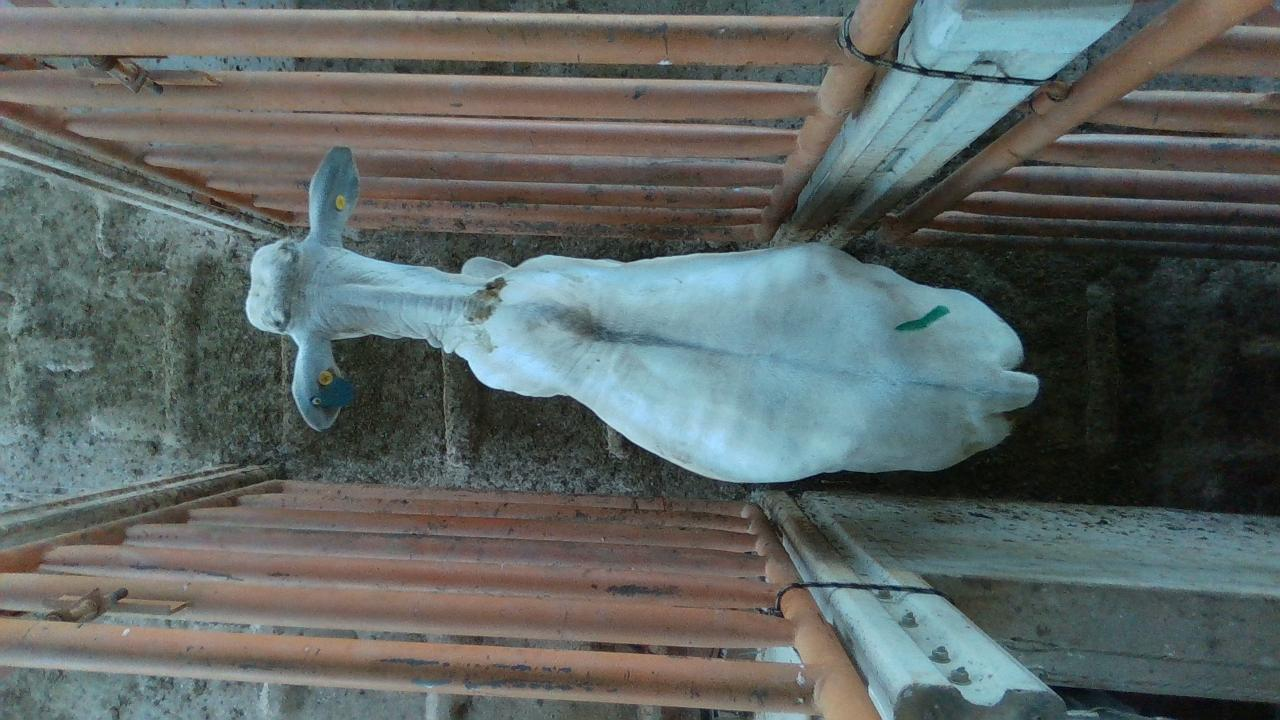cattle: (242, 144, 1040, 485)
